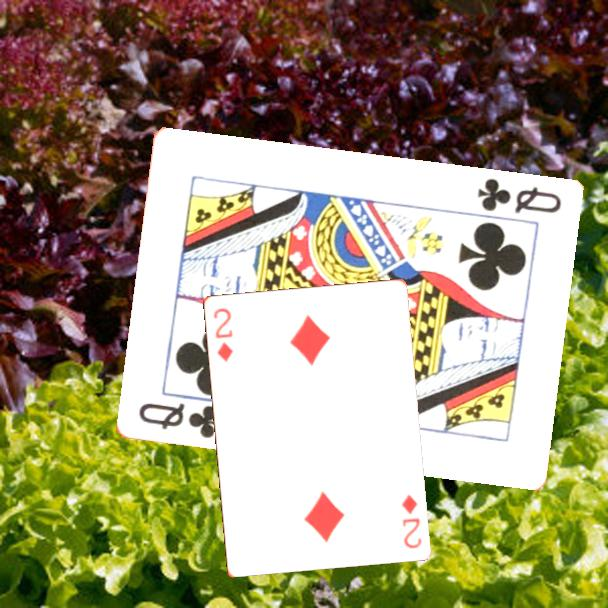c12: (135, 399, 224, 442), (473, 175, 564, 217)
d02: (397, 491, 424, 551), (210, 304, 235, 364)
